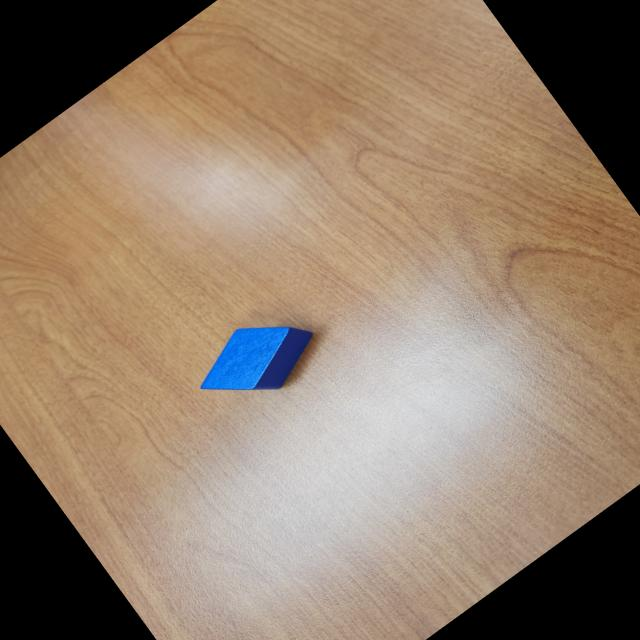blue: (184, 293, 328, 427)
